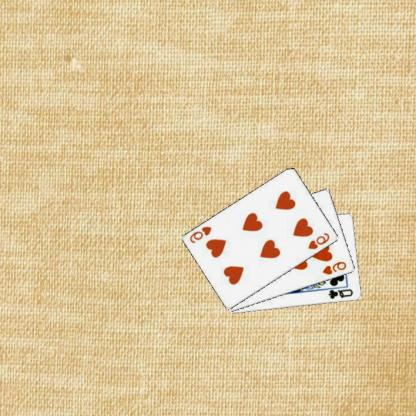6H: (307, 230, 333, 250), (189, 224, 215, 244)
9H: (322, 259, 350, 276)
QC: (328, 287, 356, 300)
